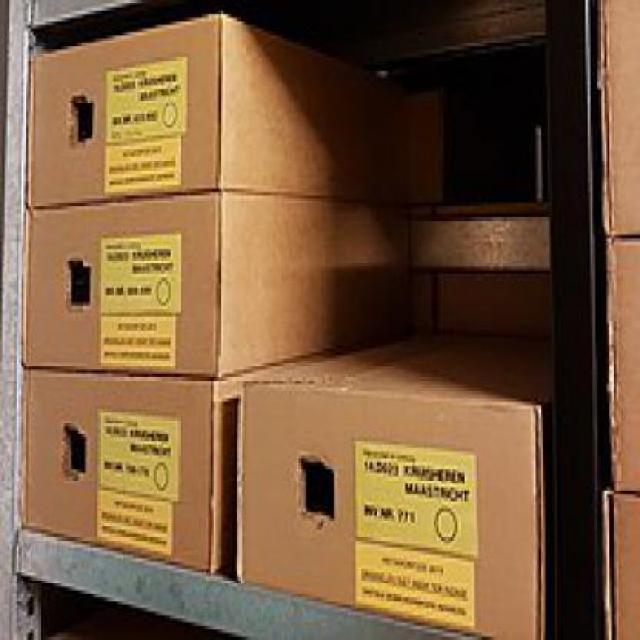box: (235, 338, 560, 640), (20, 338, 412, 574), (30, 20, 447, 217), (24, 192, 416, 384)
